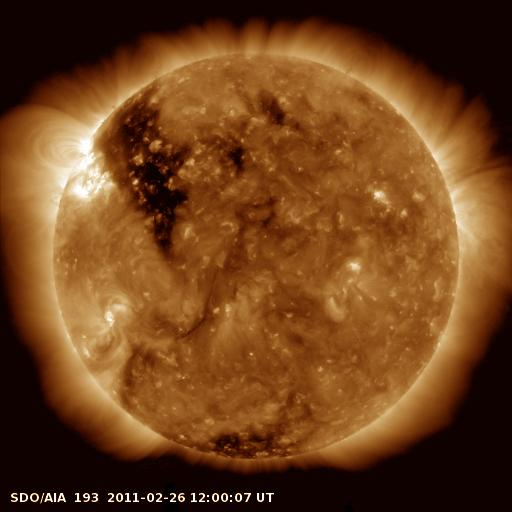coronal_hole: (91, 78, 193, 259), (172, 421, 297, 464)
